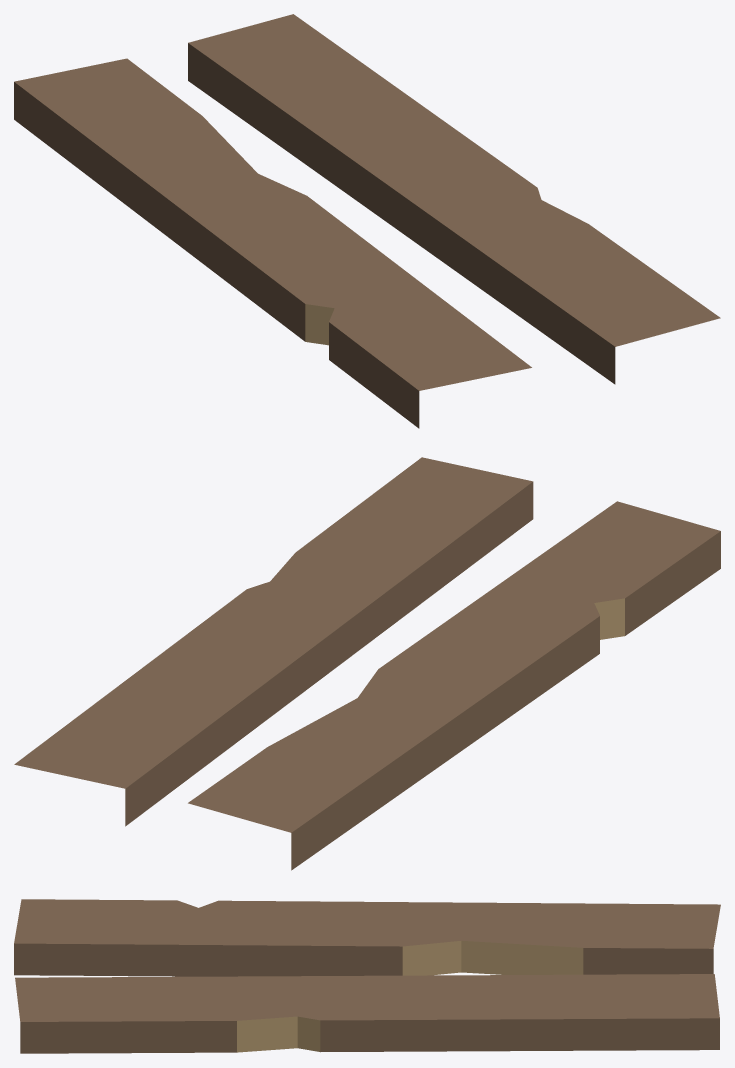
The model's file is Cave_Prop_Support_Ceiling_Boards_3.glb.
3 views of the same model, one above another, from view 1: azimuth 30°, elevation 25°; view 2: azimuth 150°, elevation 25°; view 3: azimuth 270°, elevation 25° (orthographic). The views are drawn at different scales.
Visible parts, largest first — view 1: Cave_Prop_Support_Ceiling_Boards_3; view 2: Cave_Prop_Support_Ceiling_Boards_3; view 3: Cave_Prop_Support_Ceiling_Boards_3.
Part boxes in pixels (x1=…): Cave_Prop_Support_Ceiling_Boards_3: x1=14, y1=14, x2=720, y2=428; Cave_Prop_Support_Ceiling_Boards_3: x1=14, y1=457, x2=720, y2=870; Cave_Prop_Support_Ceiling_Boards_3: x1=14, y1=899, x2=720, y2=1053.
Bounding box in the file's own units: 0.8302 × 0.1 × 2.02.
